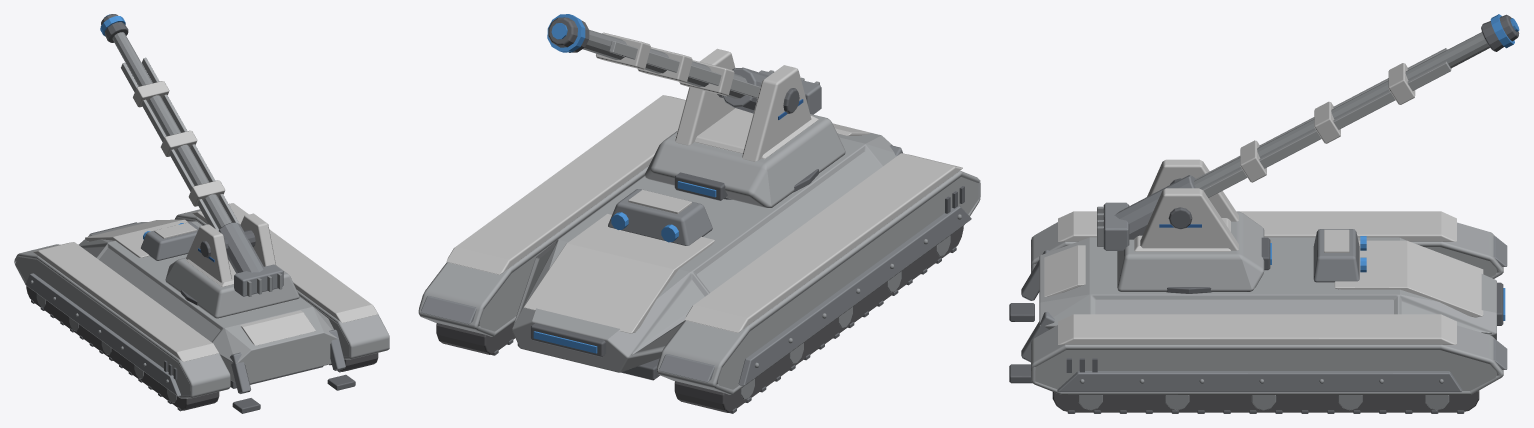
File: lattice_artillery_vehicle.glb
3 renders of one model, left to right at view 1: azimuth 30°, elevation 25°; view 2: azimuth 150°, elevation 25°; view 3: azimuth 270°, elevation 25°, orthographic. The views are drawn at different scales.
Parts seen in each view (by area): view 1: Body, Turret; view 2: Body, Turret; view 3: Body, Turret.
Boxes of the visible parts, <box> form: Body: <box>14,203,389,413</box>; Turret: <box>100,14,299,318</box>; Body: <box>418,95,980,413</box>; Turret: <box>547,14,845,207</box>; Body: <box>1009,211,1507,413</box>; Turret: <box>1097,14,1519,291</box>.
Size of the model in its own units: 1.51 by 1.73 by 2.39.
